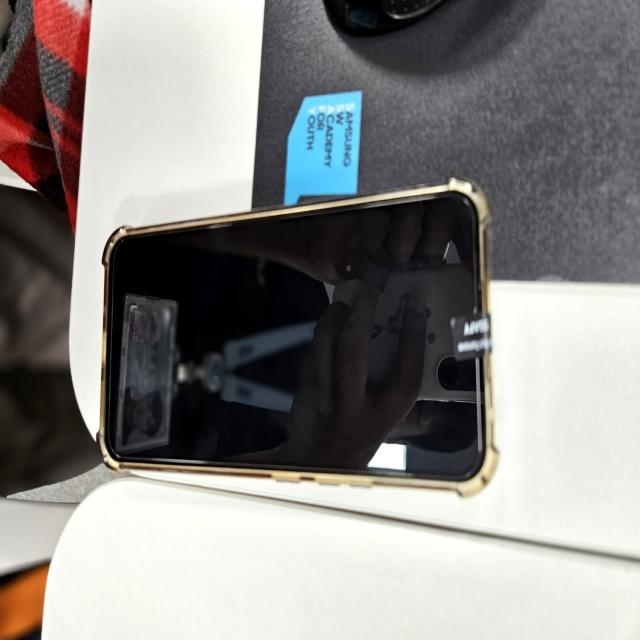phone: (101, 183, 496, 497)
sticker: (450, 313, 493, 355)
